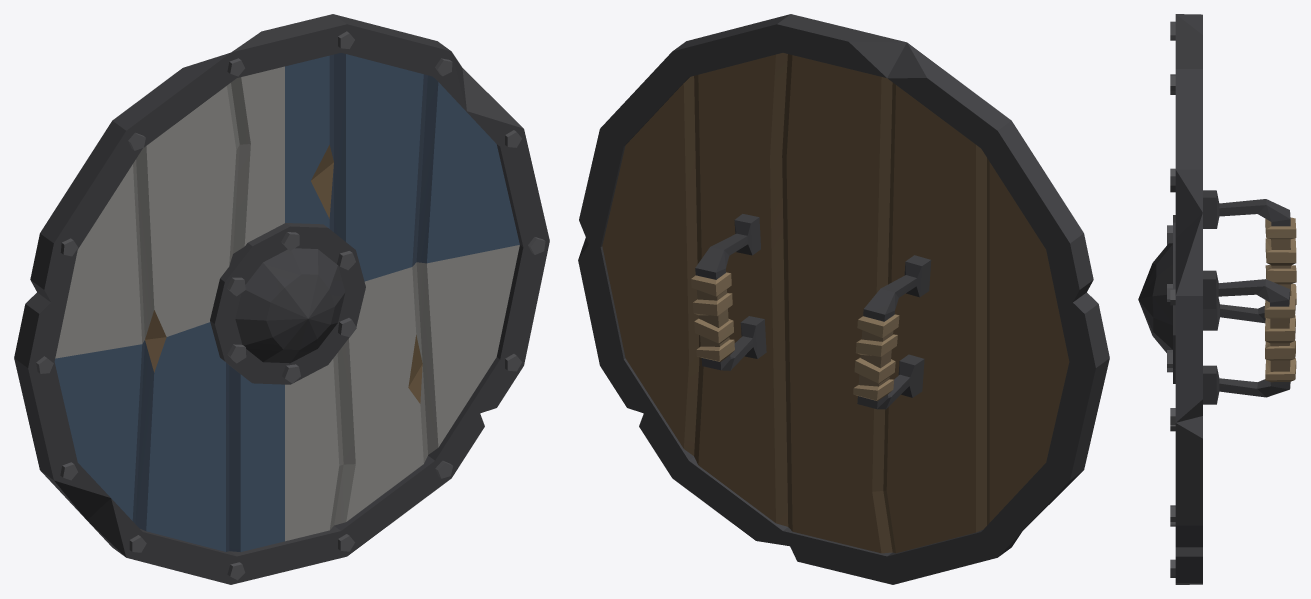
Rendered from Escudo_03.glb.
3 views of the same model, side by side, from view 1: azimuth 30°, elevation 25°; view 2: azimuth 150°, elevation 25°; view 3: azimuth 270°, elevation 25° (orthographic). The views are drawn at different scales.
Visible parts, largest first — view 1: SM_Wep_Shield_08; view 2: SM_Wep_Shield_08; view 3: SM_Wep_Shield_08.
Part boxes in pixels (x1=…): SM_Wep_Shield_08: x1=14, y1=14, x2=549, y2=584; SM_Wep_Shield_08: x1=578, y1=14, x2=1109, y2=584; SM_Wep_Shield_08: x1=1138, y1=14, x2=1296, y2=584.
Size of the model in its own units: 0.7578 by 0.7388 by 0.2058.
1 material, 1 textured.
